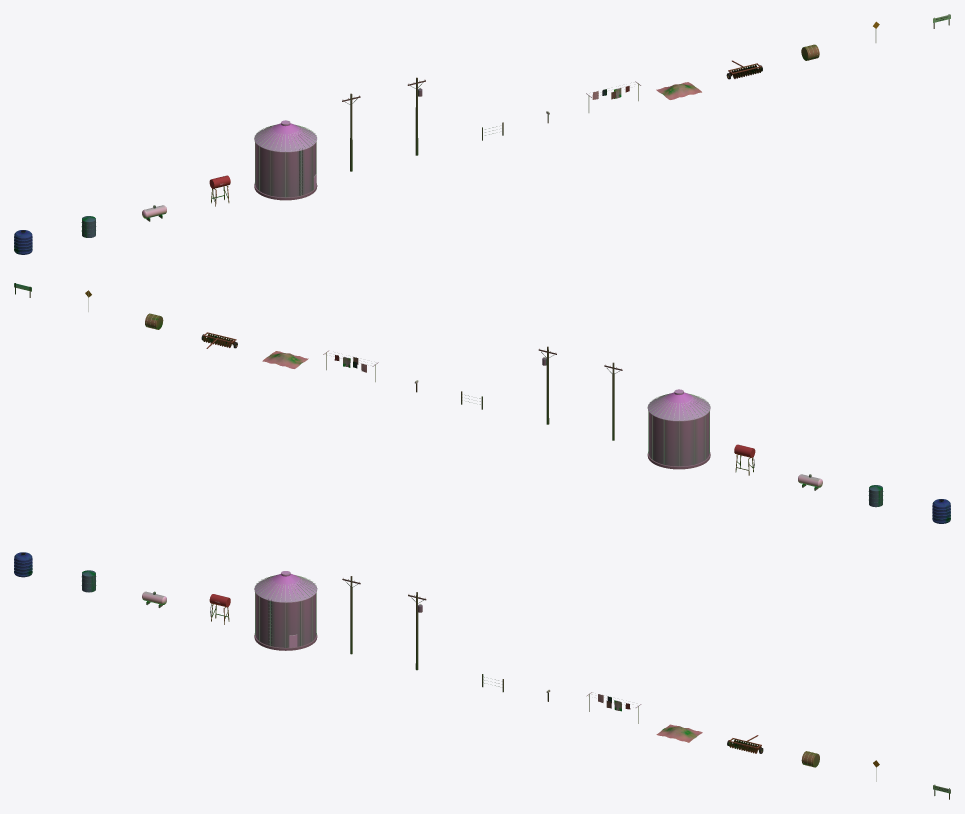
File: farm_props.glb
The picture shows the model from 3 angles, top to bottom: view 1: azimuth 30°, elevation 25°; view 2: azimuth 150°, elevation 25°; view 3: azimuth 330°, elevation 25°; orthographic projection.
Parts seen in each view (by area): view 1: grain_bin__m; view 2: grain_bin__m; view 3: grain_bin__m.
Boxes of the visible parts, x1,y1,x2,y2 form: grain_bin__m: (254, 120, 317, 200); grain_bin__m: (647, 389, 710, 469); grain_bin__m: (254, 571, 317, 650).
Size of the model in its own units: 114 by 9.15 by 6.71.
